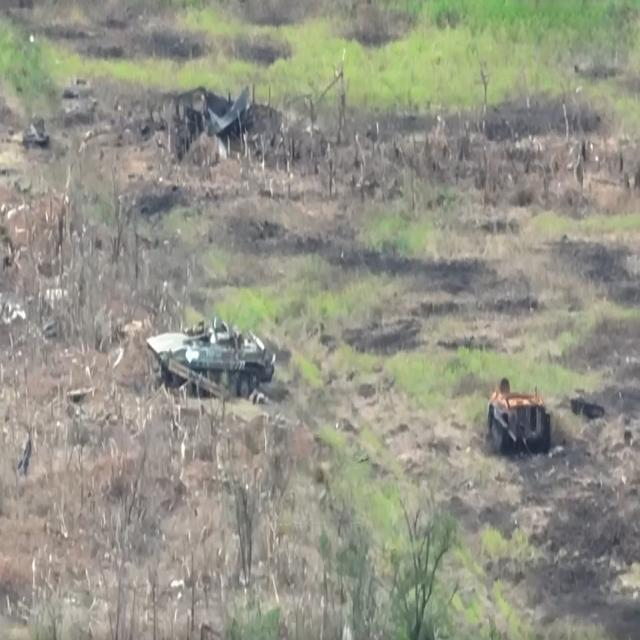AIFV: (143, 315, 279, 402)
Destroyed: (484, 374, 552, 456)
